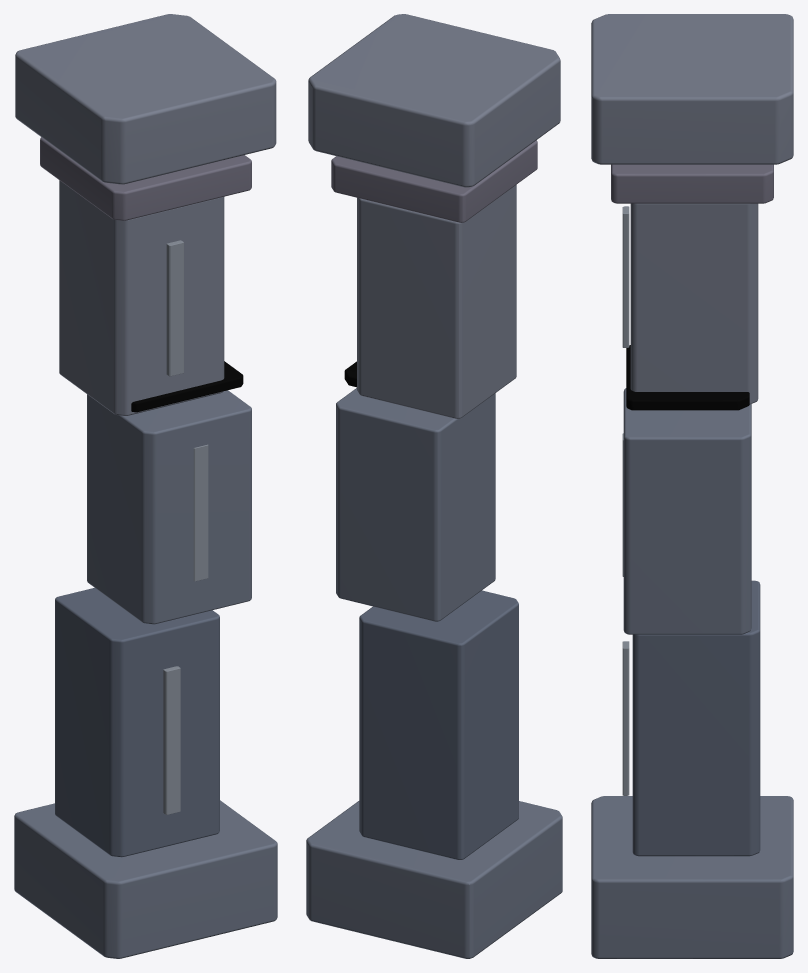
Rendered from BG_ENV_INNER_PILLAR_001.glb.
3 renders of one model, left to right at view 1: azimuth 30°, elevation 25°; view 2: azimuth 150°, elevation 25°; view 3: azimuth 270°, elevation 25°, orthographic. The views are drawn at different scales.
Visible parts, largest first — view 1: BG_ENV_INNER_PILLAR_001_mesh, Silver face inset 0_game, Silver face inset 2_game, Silver face inset 1_game; view 2: BG_ENV_INNER_PILLAR_001_mesh; view 3: BG_ENV_INNER_PILLAR_001_mesh, Silver face inset 0_game, Silver face inset 2_game.
Part boxes in pixels (x1,y1,x2,y2): BG_ENV_INNER_PILLAR_001_mesh: (14,14,277,958); Silver face inset 0_game: (163,666,180,814); Silver face inset 2_game: (166,240,183,376); Silver face inset 1_game: (193,444,208,581); BG_ENV_INNER_PILLAR_001_mesh: (306,14,562,958); BG_ENV_INNER_PILLAR_001_mesh: (591,14,793,958); Silver face inset 0_game: (622,641,629,795); Silver face inset 2_game: (622,206,629,347).
Bounding box in the file's own units: 0.46 × 2.16 × 0.46.
Materials: 2 (1 with a texture image).
